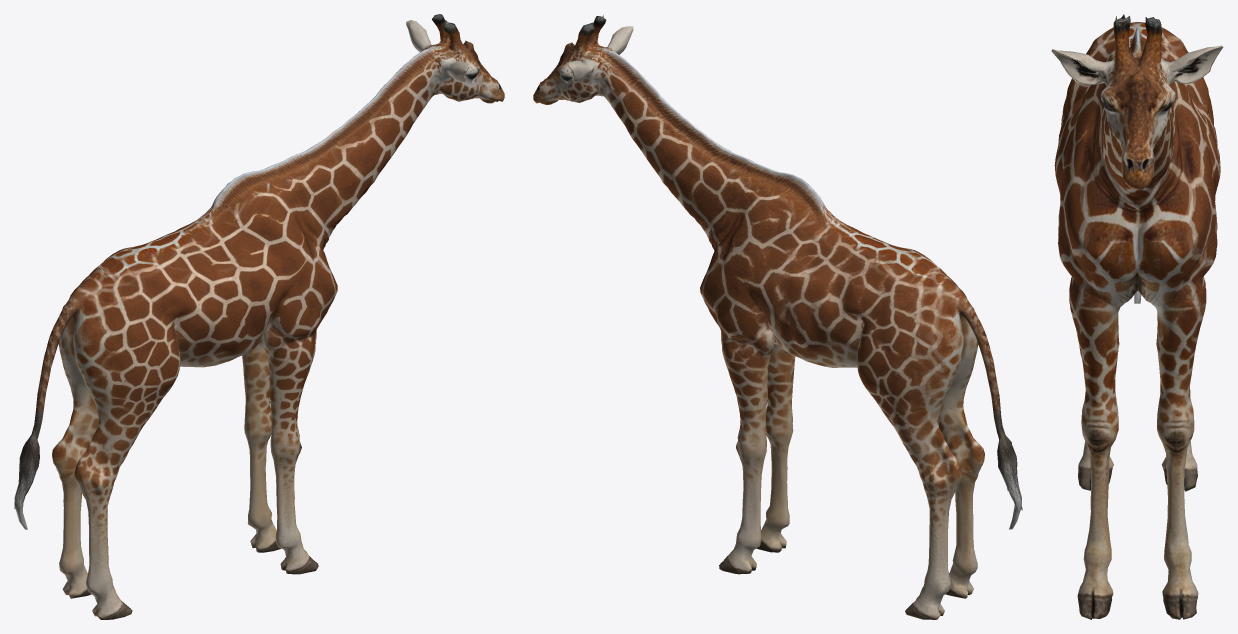
Rendered from giraffe.glb.
The picture shows the model from 3 angles, left to right: view 1: azimuth 30°, elevation 25°; view 2: azimuth 150°, elevation 25°; view 3: azimuth 270°, elevation 25°; orthographic projection. The views are drawn at different scales.
Parts seen in each view (by area): view 1: tripo_node_7cee7e3c-c4ca-4a6b-ba0b-651957218f1f; view 2: tripo_node_7cee7e3c-c4ca-4a6b-ba0b-651957218f1f; view 3: tripo_node_7cee7e3c-c4ca-4a6b-ba0b-651957218f1f.
Boxes of the visible parts, left/top/right/bottom form: tripo_node_7cee7e3c-c4ca-4a6b-ba0b-651957218f1f: left=14, top=14, right=504, bottom=619; tripo_node_7cee7e3c-c4ca-4a6b-ba0b-651957218f1f: left=533, top=15, right=1022, bottom=619; tripo_node_7cee7e3c-c4ca-4a6b-ba0b-651957218f1f: left=1051, top=14, right=1223, bottom=619.
Size of the model in its own units: 1 by 0.9839 by 0.219.
1 material, 1 textured.
